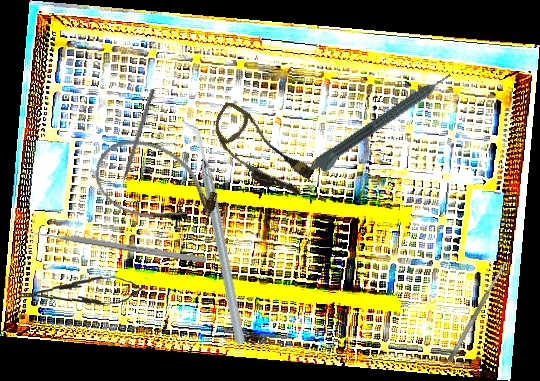Cannula: (83, 124, 230, 247), (199, 99, 322, 205)
Chopper: (139, 118, 289, 346)
Handpiece: (305, 69, 458, 182)
Hook Surgical: (115, 88, 156, 198)
Needle Holder: (18, 273, 145, 310)
Pusher: (21, 227, 207, 264)
Spatula Surgical: (445, 259, 510, 365)
